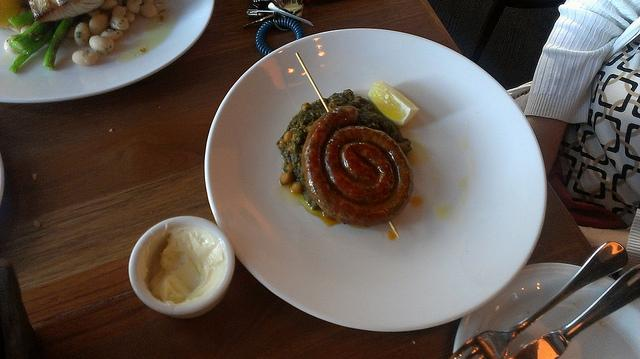lemon: (368, 82, 420, 126)
